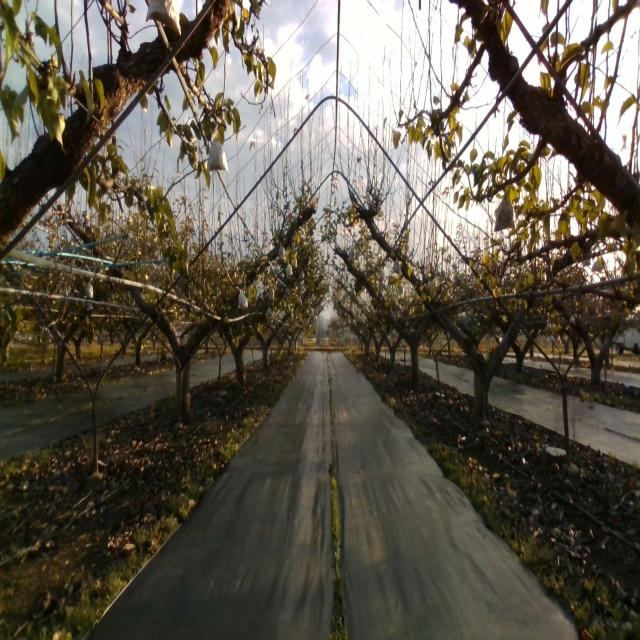pearbags: (146, 0, 181, 38), (206, 132, 229, 174), (494, 192, 516, 232), (238, 287, 248, 309)
